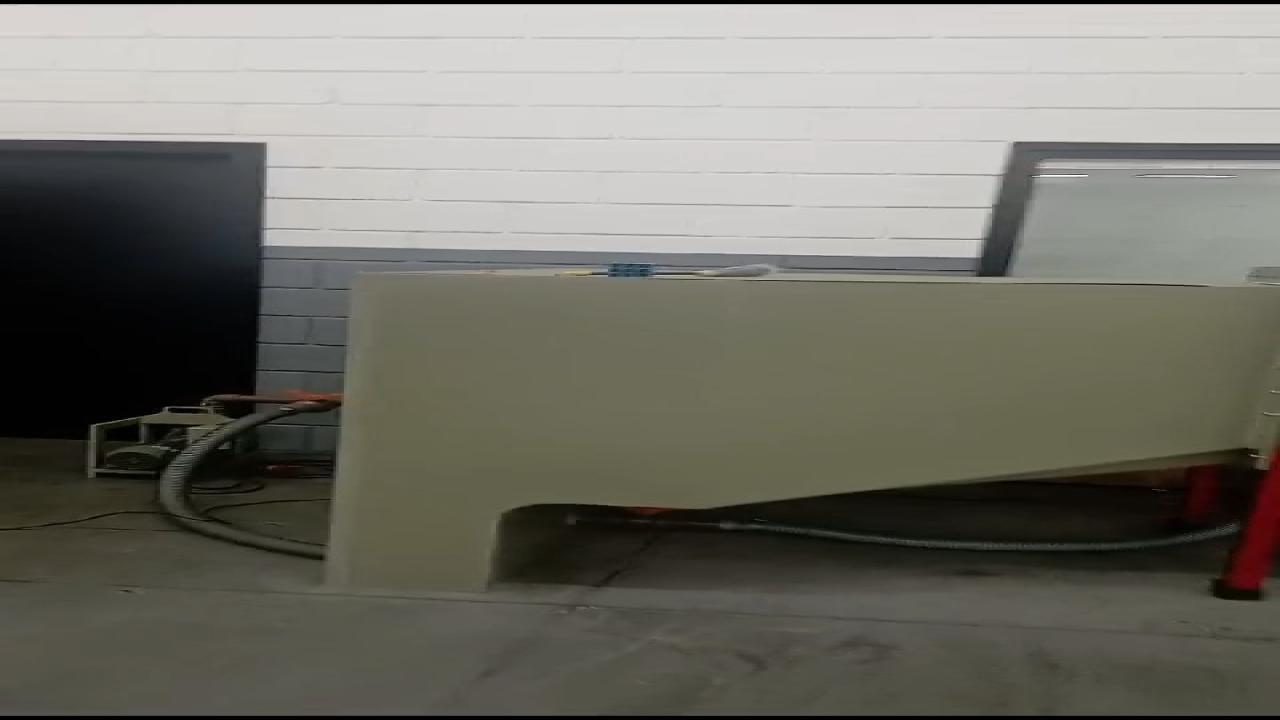Cube: (597, 258, 663, 280)
